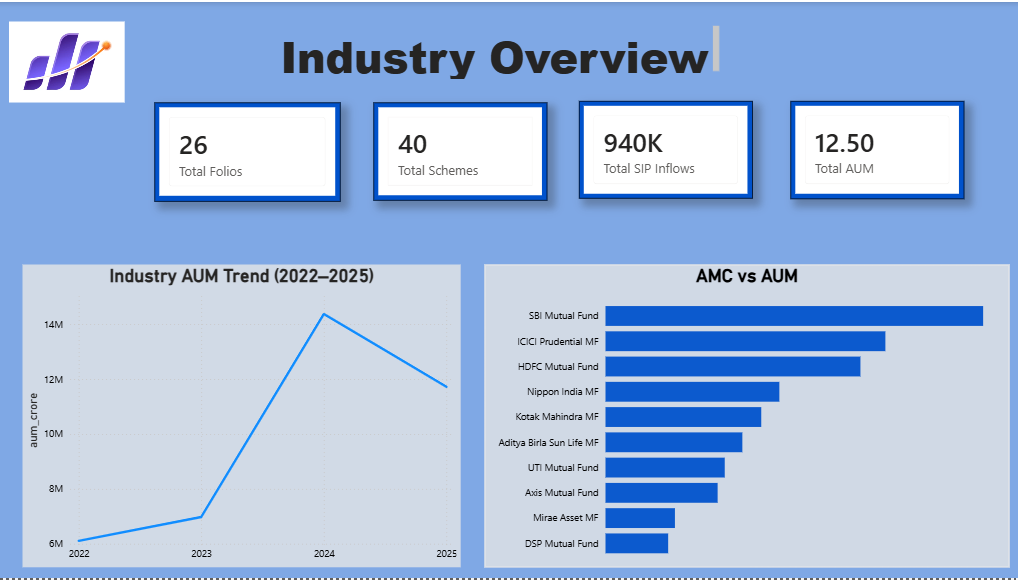

The page's visual inventory and layout, read from the dashboard file:
{"tool":"powerbi","page":{"name":"Industry Overview","canvas":[1280,720],"ordinal":0},"visuals":[{"type":"cardVisual","fields":{"Data":["01_fund_master.Total AUM"]},"box":[992.1,124.7,217.3,122.8],"z":0},{"type":"cardVisual","fields":{"Data":["01_fund_master.Total SIP Inflows"]},"box":[727.6,124.7,217.3,122],"z":1000},{"type":"cardVisual","fields":{"Data":["01_fund_master.Total Schemes"]},"box":[470.6,126.6,217.3,122.8],"z":2000},{"type":"cardVisual","fields":{"Data":["01_fund_master.Total Folios"]},"box":[197,125.7,232.6,123.8],"z":3000},{"type":"lineChart","title":"Industry AUM Trend (2022–2025)","fields":{"Category":["03_aum_by_fund_house.Year"],"Y":["Sum(03_aum_by_fund_house.aum_crore)"]},"box":[31.9,328.3,547.8,378.9],"z":4000},{"type":"barChart","title":"AMC vs AUM","fields":{"Y":["Sum(03_aum_by_fund_house.aum_crore)"],"Category":["03_aum_by_fund_house.fund_house"]},"box":[609.7,328.3,656.6,378.9],"z":5000},{"type":"textbox","box":[343.9,24.6,565,75.6],"z":6000},{"type":"image","box":[15,24.4,144.4,101.3],"z":7000}]}

Visuals, with their boxes in screenshot pixels (x1, y1, x2, y2), scaled from the page's 1280x720 canvas onto the 1018x580 screenshot:
cardVisual - 01_fund_master.Total AUM: {"left": 789, "top": 100, "right": 962, "bottom": 199}
cardVisual - 01_fund_master.Total SIP Inflows: {"left": 579, "top": 100, "right": 751, "bottom": 199}
cardVisual - 01_fund_master.Total Schemes: {"left": 374, "top": 102, "right": 547, "bottom": 201}
cardVisual - 01_fund_master.Total Folios: {"left": 157, "top": 101, "right": 342, "bottom": 201}
"Industry AUM Trend (2022–2025)" lineChart: {"left": 25, "top": 264, "right": 461, "bottom": 570}
"AMC vs AUM" barChart: {"left": 485, "top": 264, "right": 1007, "bottom": 570}
textbox: {"left": 274, "top": 20, "right": 723, "bottom": 81}
image: {"left": 12, "top": 20, "right": 127, "bottom": 101}
